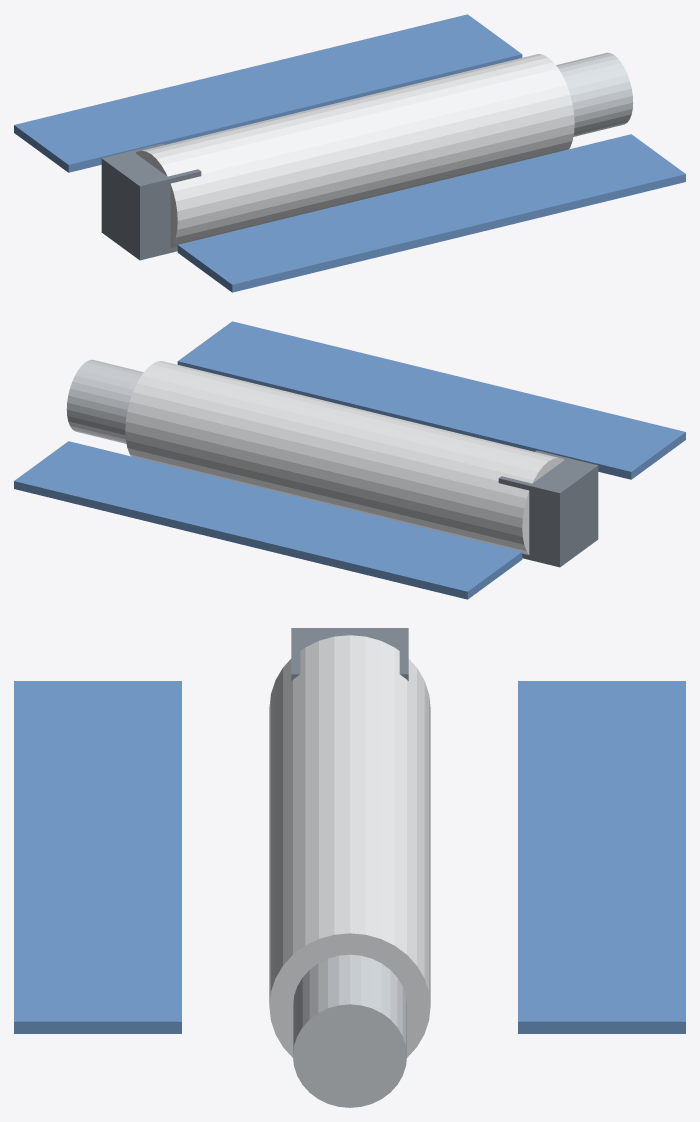
Rendered from tiangong.glb.
3 renders of one model, top to bottom at view 1: azimuth 30°, elevation 25°; view 2: azimuth 150°, elevation 25°; view 3: azimuth 270°, elevation 25°, orthographic. The views are drawn at different scales.
Visible parts, largest first — view 1: tiangong_0, tiangong_3, tiangong_4, tiangong_2, tiangong_1; view 2: tiangong_0, tiangong_4, tiangong_3, tiangong_2, tiangong_1; view 3: tiangong_3, tiangong_4, tiangong_0, tiangong_1, tiangong_2.
Boxes of the visible parts, box(x1,y1,x2,y2) form: tiangong_0: box(136, 54, 574, 247); tiangong_3: box(177, 134, 685, 292); tiangong_4: box(14, 14, 522, 172); tiangong_2: box(101, 143, 201, 260); tiangong_1: box(556, 52, 633, 136); tiangong_0: box(125, 361, 563, 554); tiangong_4: box(14, 441, 522, 599); tiangong_3: box(177, 321, 685, 479); tiangong_2: box(498, 450, 598, 567); tiangong_1: box(66, 359, 143, 443); tiangong_3: box(14, 681, 181, 1033); tiangong_4: box(518, 681, 685, 1033); tiangong_0: box(269, 635, 430, 1057); tiangong_1: box(293, 954, 406, 1107); tiangong_2: box(291, 628, 408, 680).
Bounding box in the file's own units: 5.22 × 0.96 × 4.
